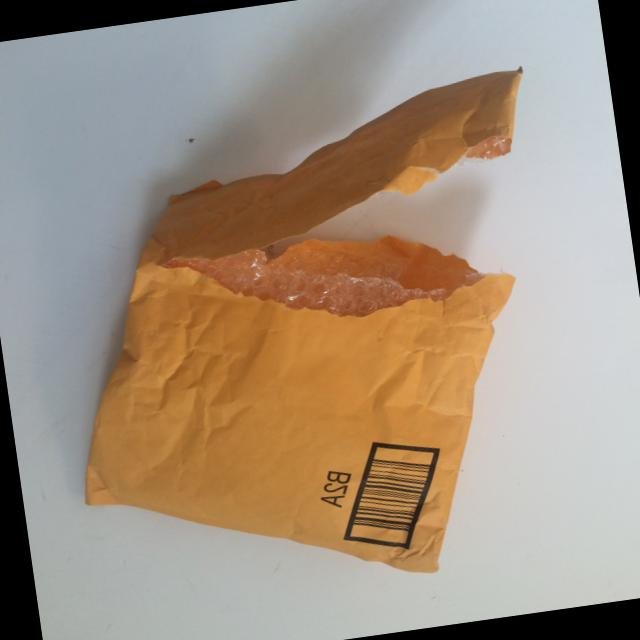Paper: (36, 67, 590, 620)
Plastic: (286, 261, 334, 307), (333, 276, 388, 316)
